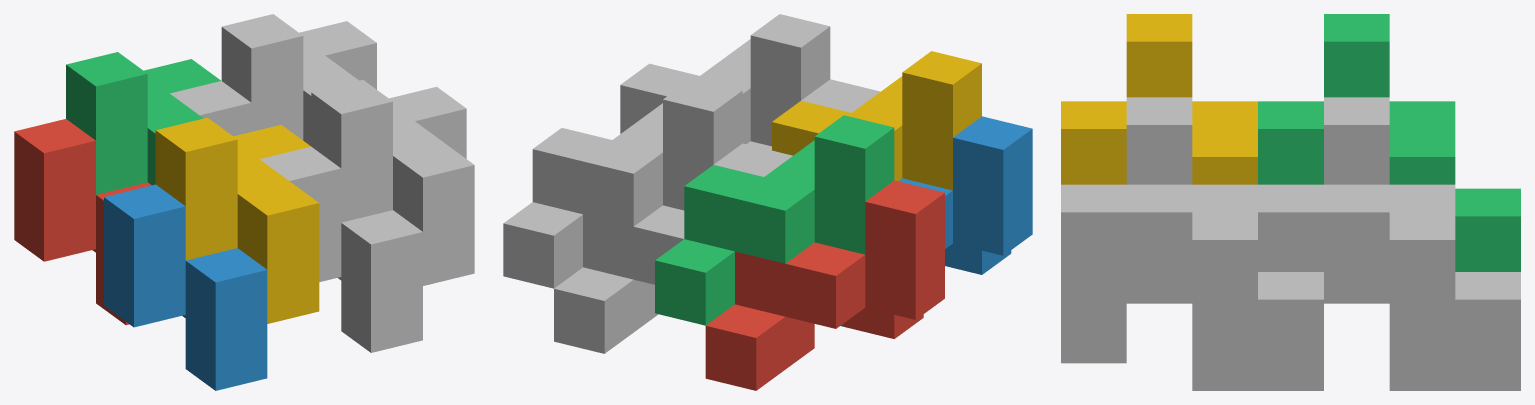
File: tiling.obj
3 renders of one model, left to right at view 1: azimuth 30°, elevation 25°; view 2: azimuth 150°, elevation 25°; view 3: azimuth 270°, elevation 25°, orthographic. The views are drawn at different scales.
Visible parts, largest first — view 1: copy_1_domain_8, copy_1_domain_2, copy_1_domain_4, copy_1_domain_6, copy_1_domain_7, copy_1_domain_3, copy_1_domain_1, copy_1_domain_5; view 2: copy_1_domain_1, copy_1_domain_3, copy_1_domain_7, copy_1_domain_5, copy_1_domain_4, copy_1_domain_8, copy_1_domain_2, copy_1_domain_6; view 3: copy_1_domain_8, copy_1_domain_7, copy_1_domain_3, copy_1_domain_4, copy_1_domain_6, copy_1_domain_5.
Boxes of the visible parts, x1=… form: copy_1_domain_8: x1=311, y1=80, x2=474, y2=285; copy_1_domain_2: x1=104, y1=184, x2=267, y2=390; copy_1_domain_4: x1=155, y1=117, x2=319, y2=323; copy_1_domain_6: x1=260, y1=146, x2=422, y2=352; copy_1_domain_7: x1=221, y1=14, x2=376, y2=145; copy_1_domain_3: x1=66, y1=52, x2=220, y2=194; copy_1_domain_1: x1=14, y1=119, x2=151, y2=324; copy_1_domain_5: x1=170, y1=81, x2=251, y2=136; copy_1_domain_1: x1=705, y1=180, x2=944, y2=390; copy_1_domain_3: x1=655, y1=115, x2=894, y2=325; copy_1_domain_7: x1=503, y1=78, x2=742, y2=288; copy_1_domain_5: x1=554, y1=143, x2=792, y2=353; copy_1_domain_4: x1=772, y1=51, x2=981, y2=190; copy_1_domain_8: x1=620, y1=14, x2=830, y2=146; copy_1_domain_2: x1=840, y1=116, x2=1032, y2=326; copy_1_domain_6: x1=747, y1=79, x2=880, y2=150; copy_1_domain_8: x1=1061, y1=97, x2=1323, y2=359; copy_1_domain_7: x1=1258, y1=97, x2=1520, y2=359; copy_1_domain_3: x1=1258, y1=14, x2=1520, y2=271; copy_1_domain_4: x1=1061, y1=14, x2=1257, y2=184; copy_1_domain_6: x1=1061, y1=272, x2=1323, y2=390; copy_1_domain_5: x1=1324, y1=272, x2=1520, y2=390.
Size of the model in its own units: 7 by 4 by 7.
